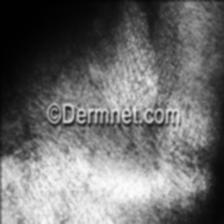Non-Cancerous Skin Condition: (0, 100, 48, 224)
